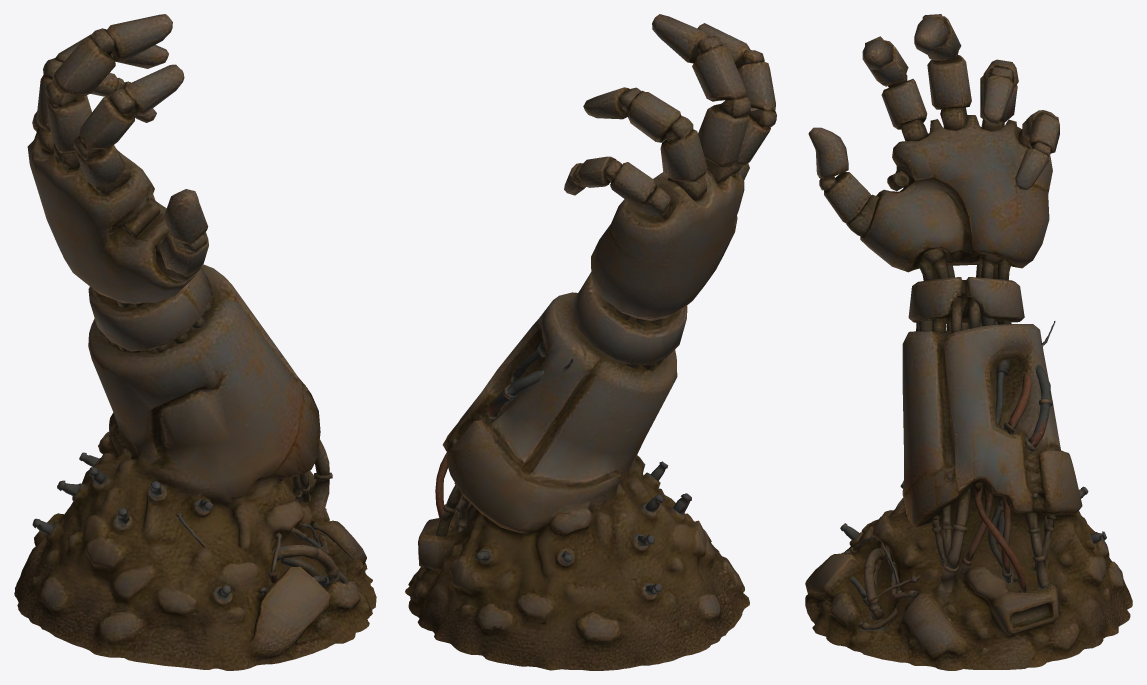
Rendered from buriedMechHand.glb.
3 views of the same model, side by side, from view 1: azimuth 30°, elevation 25°; view 2: azimuth 150°, elevation 25°; view 3: azimuth 270°, elevation 25° (orthographic). The views are drawn at different scales.
Parts seen in each view (by area): view 1: tripo_node_3eeb2a1c-1189-4471-bbda-7626ec3acb2a; view 2: tripo_node_3eeb2a1c-1189-4471-bbda-7626ec3acb2a; view 3: tripo_node_3eeb2a1c-1189-4471-bbda-7626ec3acb2a.
Part boxes in pixels (box(x1,y1,x2,y2)): tripo_node_3eeb2a1c-1189-4471-bbda-7626ec3acb2a: box(14, 14, 376, 670); tripo_node_3eeb2a1c-1189-4471-bbda-7626ec3acb2a: box(405, 14, 776, 670); tripo_node_3eeb2a1c-1189-4471-bbda-7626ec3acb2a: box(805, 14, 1132, 670).
Bounding box in the file's own units: 0.5449 × 0.998 × 0.5449.
1 material, 1 textured.
